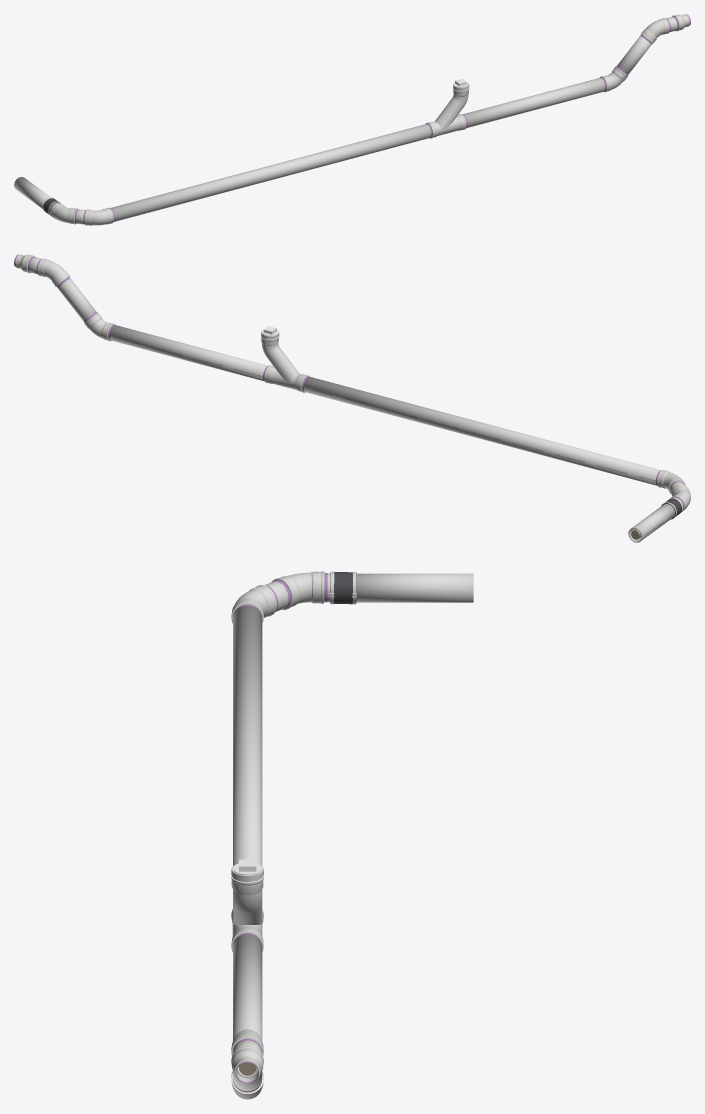
File: pipes_dwv__sewer__eff531ad.glb
The picture shows the model from 3 angles, top to bottom: view 1: azimuth 30°, elevation 25°; view 2: azimuth 150°, elevation 25°; view 3: azimuth 270°, elevation 25°; orthographic projection. The views are drawn at different scales.
Parts seen in each view (by area): view 1: pipe_dwv_sewer_trash, cleanout_dwv_yard_trash; view 2: pipe_dwv_sewer_trash, cleanout_dwv_yard_trash; view 3: pipe_dwv_sewer_trash, cleanout_dwv_yard_trash, fit_increaser_pipe_dwv_sewer_trash.
Boxes of the visible parts, bbox=[...] form: pipe_dwv_sewer_trash: bbox=[14, 16, 677, 225]; cleanout_dwv_yard_trash: bbox=[426, 83, 469, 138]; pipe_dwv_sewer_trash: bbox=[29, 257, 690, 542]; cleanout_dwv_yard_trash: bbox=[261, 331, 309, 392]; pipe_dwv_sewer_trash: bbox=[231, 571, 473, 1099]; cleanout_dwv_yard_trash: bbox=[231, 866, 263, 951]; fit_increaser_pipe_dwv_sewer_trash: bbox=[231, 1046, 263, 1083].
Bounding box in the file's own units: 5.58 × 0.6073 × 0.9474.
